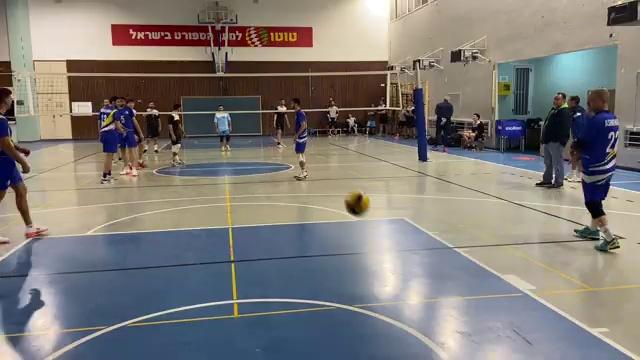ball: (341, 189, 373, 222)
